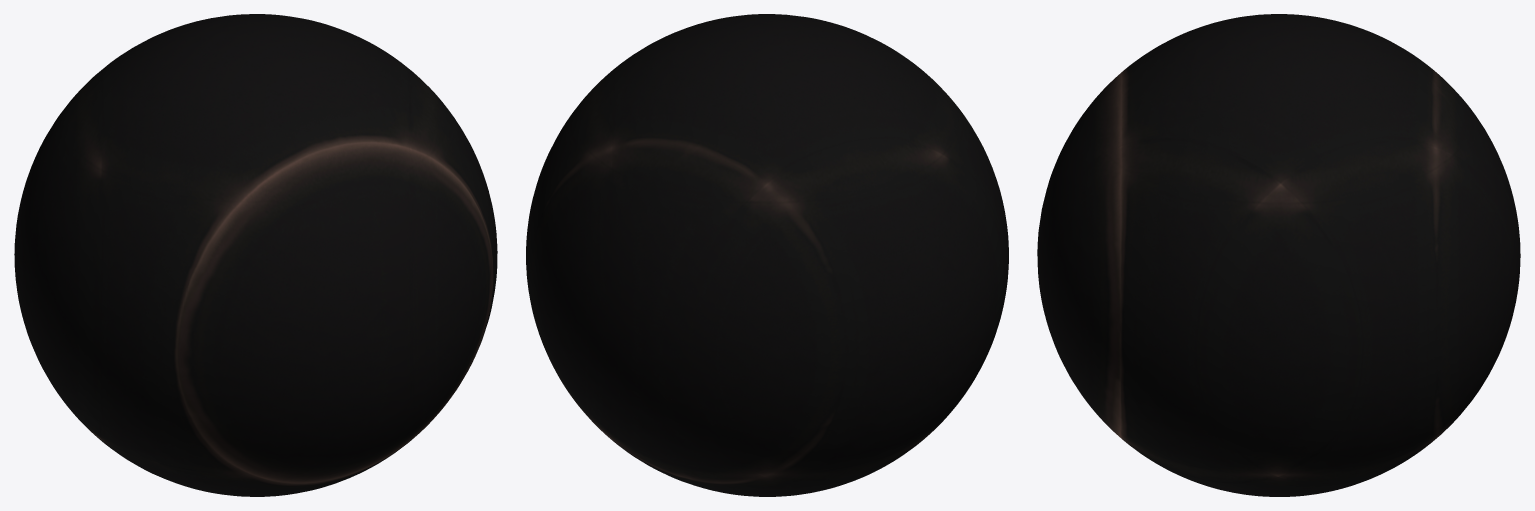
Rendered from mars-atmosphere.glb.
The picture shows the model from 3 angles, left to right: view 1: azimuth 30°, elevation 25°; view 2: azimuth 150°, elevation 25°; view 3: azimuth 270°, elevation 25°; orthographic projection.
Parts seen in each view (by area): view 1: Mars_atmosphere; view 2: Mars_atmosphere; view 3: Mars_atmosphere.
Part boxes in pixels (x1,y1,x2,y2): Mars_atmosphere: (14, 14, 497, 496); Mars_atmosphere: (526, 14, 1008, 496); Mars_atmosphere: (1037, 14, 1520, 496).
Size of the model in its own units: 2 by 2 by 2.
Materials: 1 (1 with a texture image).
